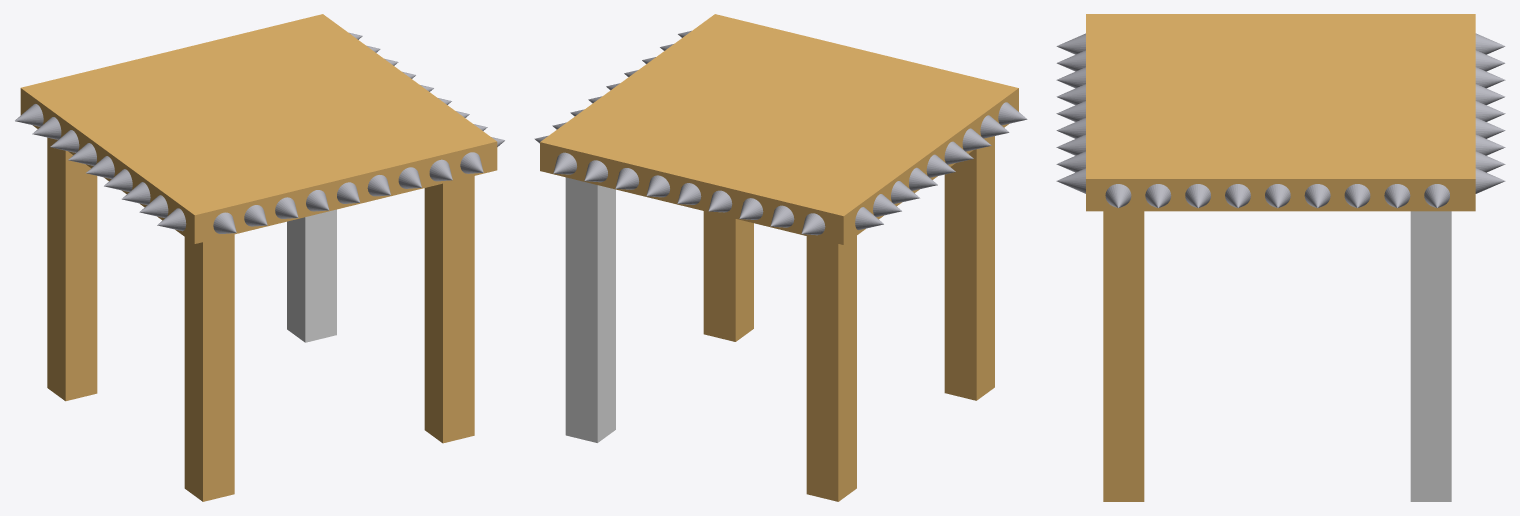
Rendered from untitle11212121d.fbx.
The picture shows the model from 3 angles, left to right: view 1: azimuth 30°, elevation 25°; view 2: azimuth 150°, elevation 25°; view 3: azimuth 270°, elevation 25°; orthographic projection. The views are drawn at different scales.
Visible parts, largest first — view 1: Cube, Cube.002, Cube.004, Cube.005, Cube.001, Cone.002, Cone; view 2: Cube, Cube.005, Cube.001, Cube.002, Cube.004, Cone.001, Cone; view 3: Cube, Cube.001, Cube.004, Cone.003, Cone.001, Cone.002.
Boxes of the visible parts, box(x1,y1,x2,y2) form: Cube: box(20, 14, 497, 243); Cube.002: box(184, 234, 234, 501); Cube.004: box(424, 176, 474, 443); Cube.005: box(47, 137, 97, 401); Cube.001: box(287, 209, 336, 342); Cone.002: box(213, 152, 483, 233); Cone: box(15, 104, 186, 231); Cube: box(540, 14, 1018, 244); Cube.005: box(806, 236, 856, 501); Cube.001: box(565, 177, 615, 442); Cube.002: box(944, 136, 994, 400); Cube.004: box(703, 211, 753, 341); Cone.001: box(553, 152, 825, 235); Cone: box(855, 102, 1027, 230); Cube: box(1086, 14, 1475, 211); Cube.001: box(1410, 211, 1451, 501); Cube.004: box(1103, 211, 1144, 501); Cone.003: box(1105, 184, 1449, 208); Cone.001: box(1475, 33, 1505, 193); Cone.002: box(1056, 33, 1085, 193).
Size of the model in its own units: 145 by 118 by 145.
